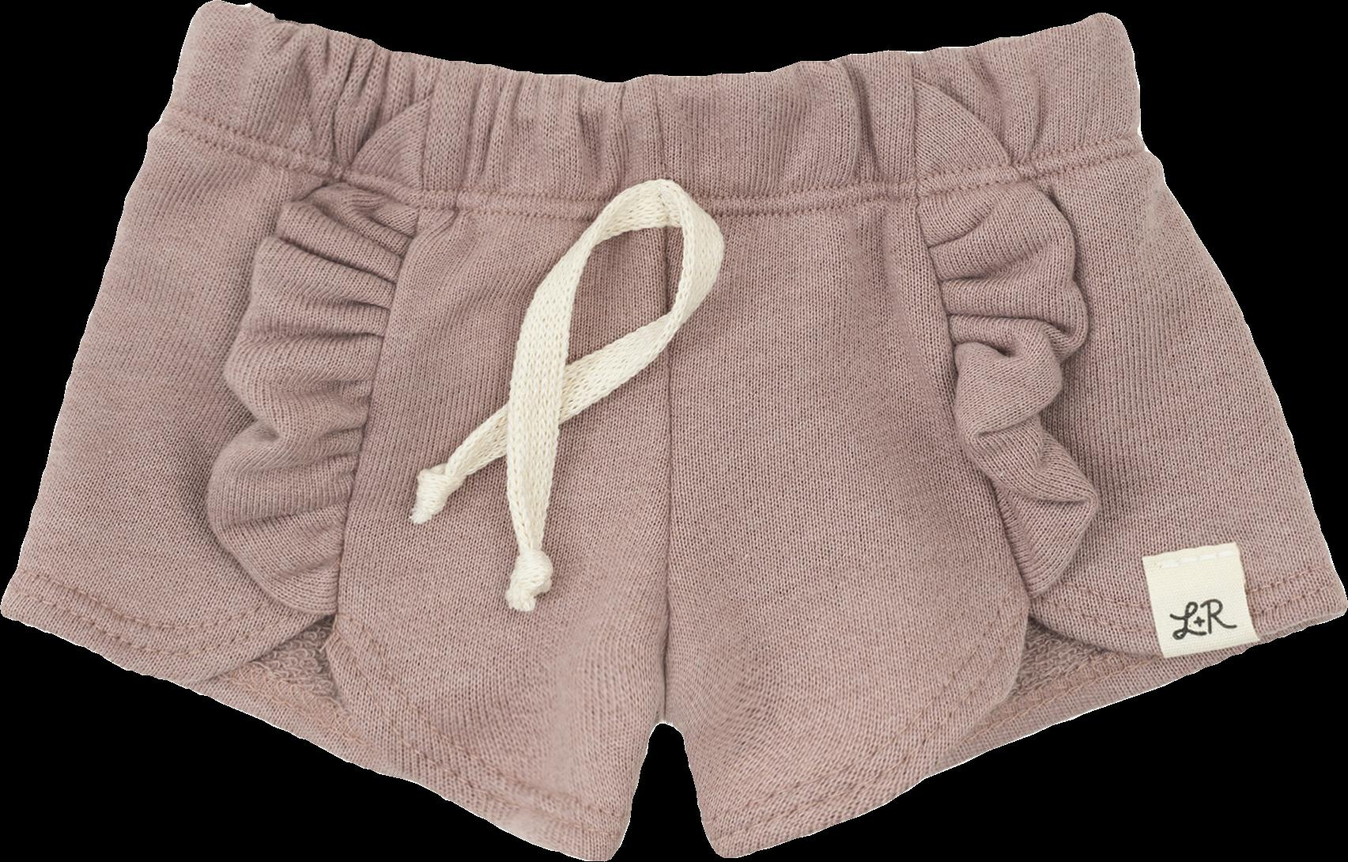Hemline: (719, 163, 1105, 861), (722, 598, 1347, 857), (0, 603, 602, 861), (320, 610, 606, 861), (208, 173, 353, 625)
Pantleg: (664, 13, 1347, 858), (1, 0, 665, 860)
Waistline: (159, 107, 1146, 214), (201, 0, 1111, 89), (907, 191, 1041, 607), (330, 189, 431, 618)
